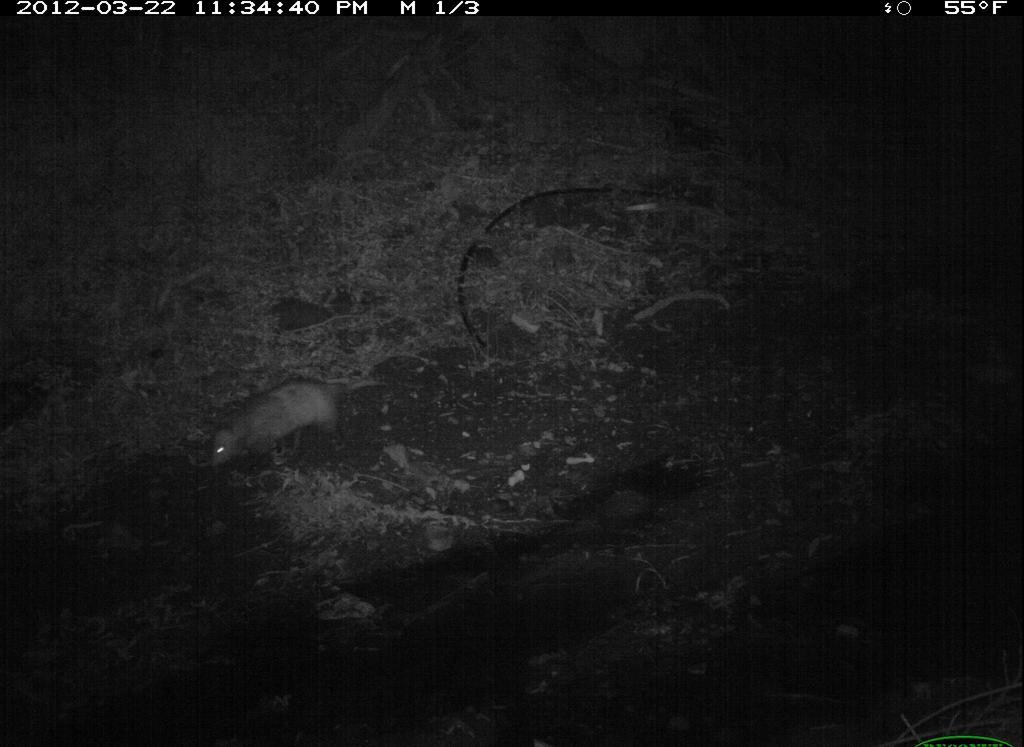opossum: (203, 374, 399, 479)
